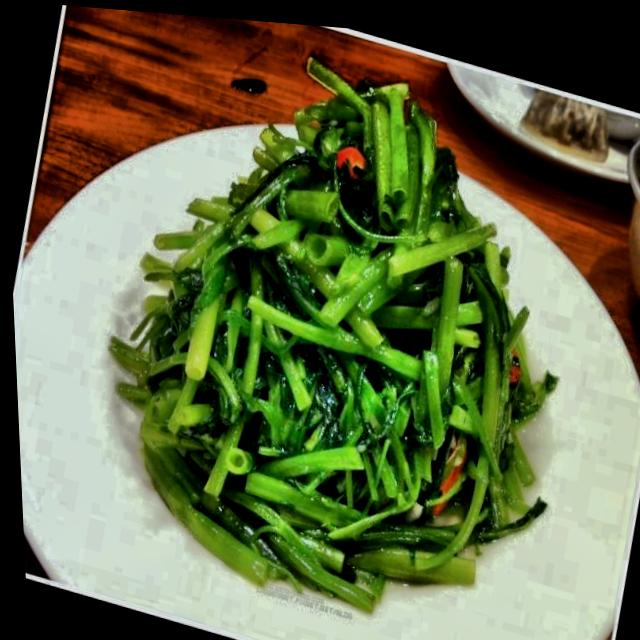Food: (142, 120, 533, 581)
